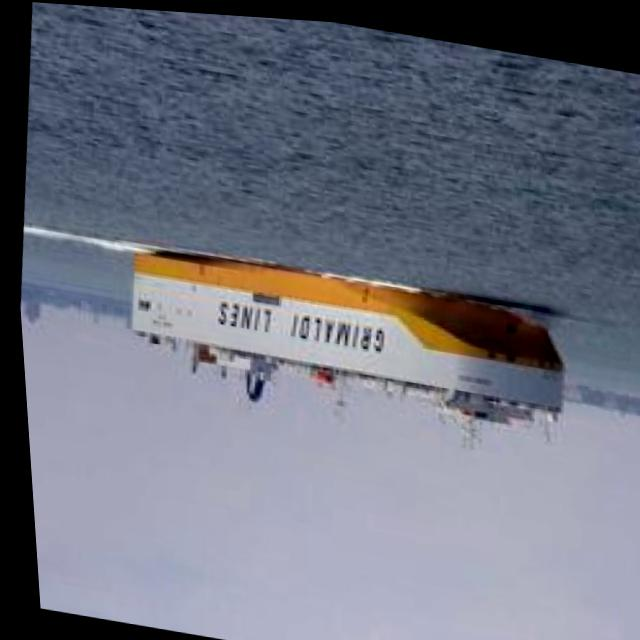ship2: (124, 244, 561, 442)
